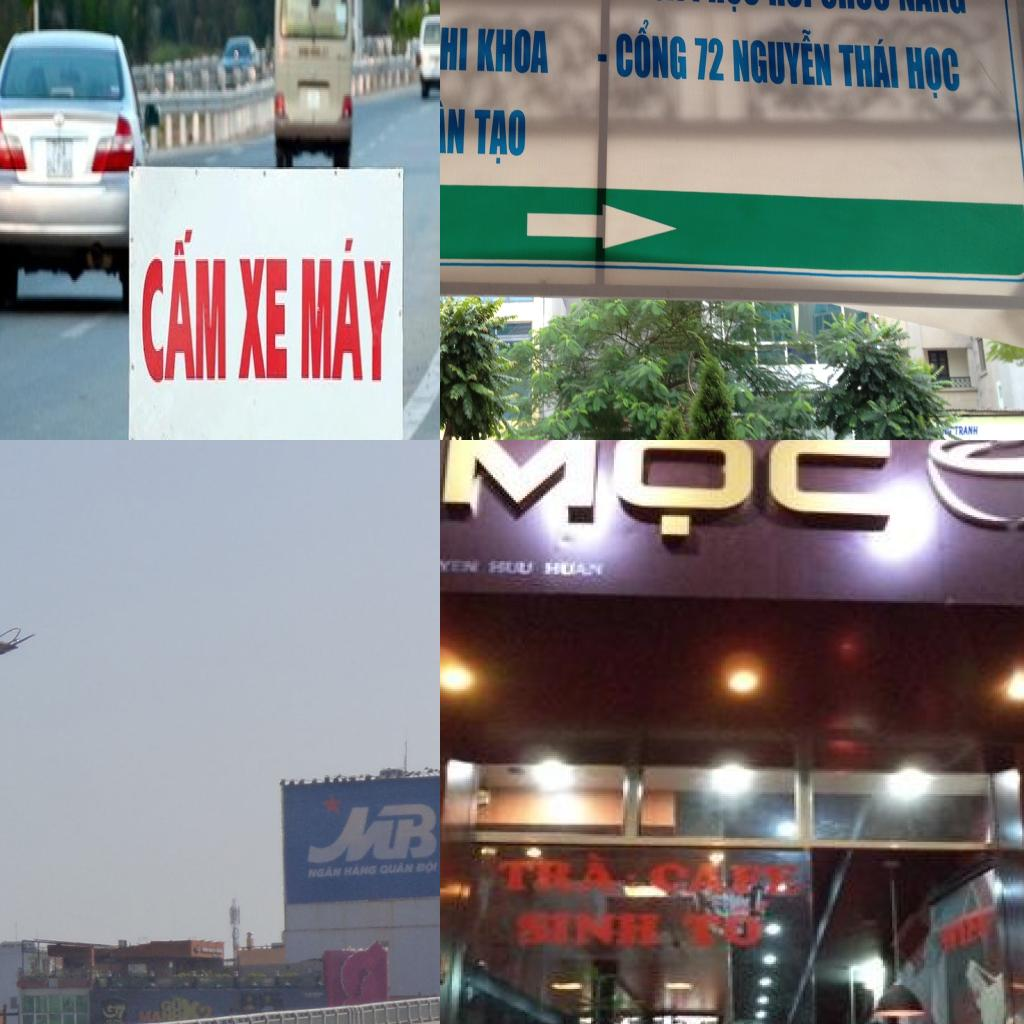text: (440, 440, 901, 559), (299, 236, 393, 387), (141, 230, 228, 386), (294, 801, 440, 865), (644, 859, 808, 899), (237, 257, 289, 380), (732, 24, 833, 87), (511, 909, 669, 949), (493, 852, 630, 896), (680, 899, 776, 949), (615, 18, 687, 82), (477, 27, 549, 74), (837, 35, 899, 89), (905, 46, 962, 102), (472, 108, 526, 165), (440, 98, 466, 155), (541, 561, 609, 582), (694, 36, 724, 82), (440, 26, 467, 71), (486, 559, 539, 580), (440, 555, 486, 578), (896, 0, 966, 15), (690, 0, 761, 14), (818, 0, 891, 11), (136, 1010, 183, 1024), (306, 864, 344, 880), (341, 862, 379, 878), (378, 860, 417, 875), (183, 998, 203, 1022), (102, 1002, 127, 1021), (413, 858, 440, 875), (954, 426, 979, 436), (160, 1000, 172, 1012)
